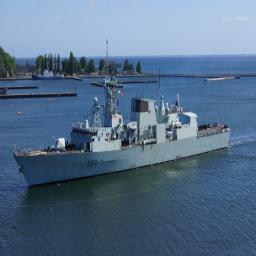Fragata: (13, 39, 232, 192)
